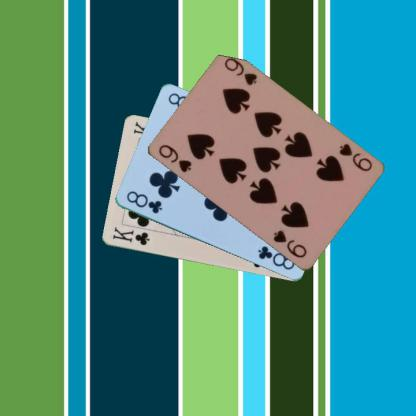8c: (124, 188, 164, 215)
9s: (155, 141, 193, 174), (336, 141, 373, 173)
Kc: (110, 224, 151, 247)
